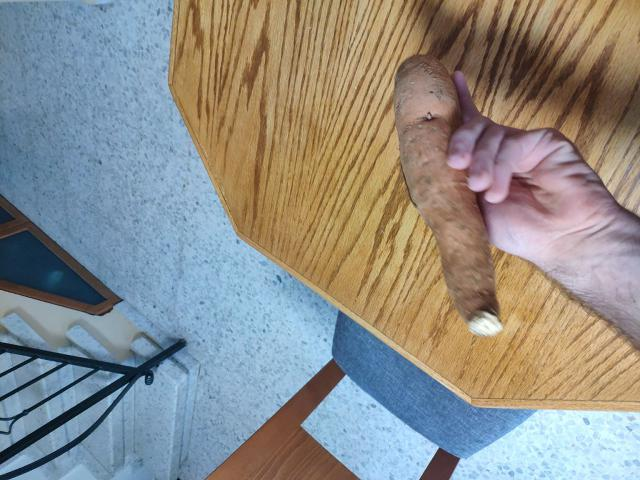sweet_potato: (377, 66, 508, 341)
